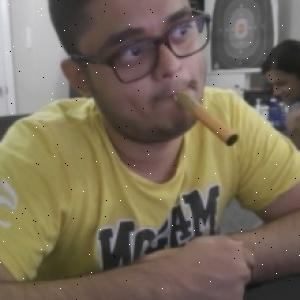Golden-E-Ciggirate: (177, 87, 241, 149)
